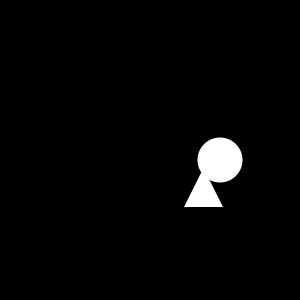rectangle: (198, 138, 242, 182)
triangle: (184, 168, 223, 207)
